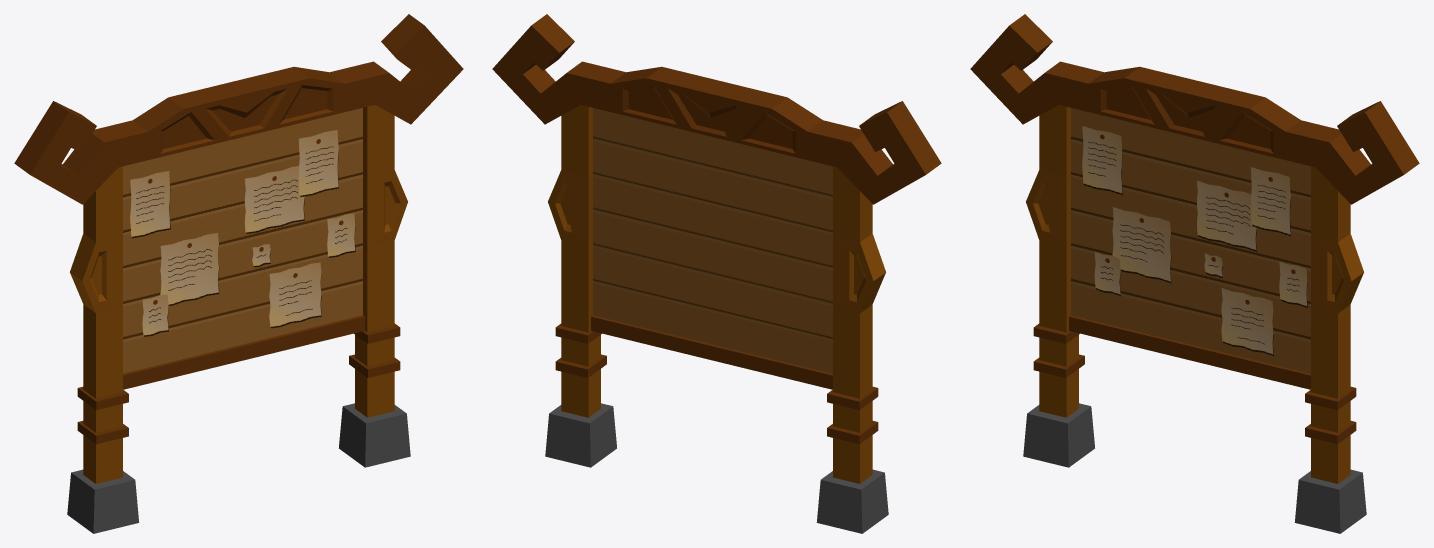
The model's file is QuestBoard_01.fbx.
3 renders of one model, left to right at view 1: azimuth 30°, elevation 25°; view 2: azimuth 150°, elevation 25°; view 3: azimuth 330°, elevation 25°, orthographic.
Visible parts, largest first — view 1: QuestBoard_01; view 2: QuestBoard_01; view 3: QuestBoard_01.
Boxes of the visible parts, x1=… form: QuestBoard_01: x1=14, y1=14, x2=463, y2=533; QuestBoard_01: x1=492, y1=14, x2=941, y2=533; QuestBoard_01: x1=970, y1=14, x2=1419, y2=533.
Bounding box in the file's own units: 320 × 297 × 33.6.
1 material, 1 textured.
